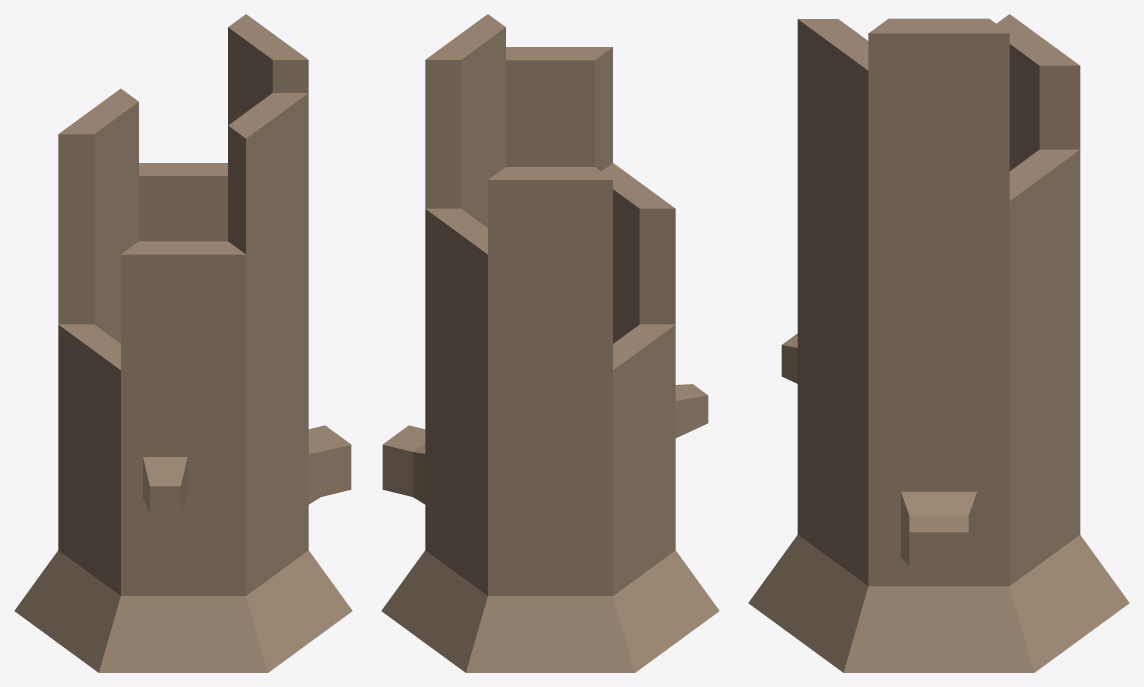
Rendered from srf_stump_tall.glb.
The picture shows the model from 3 angles, left to right: view 1: azimuth 30°, elevation 25°; view 2: azimuth 150°, elevation 25°; view 3: azimuth 270°, elevation 25°; orthographic projection. The views are drawn at different scales.
Visible parts, largest first — view 1: stump_oldTall; view 2: stump_oldTall; view 3: stump_oldTall.
Part boxes in pixels (x1,y1,x2,y2): stump_oldTall: [14, 14, 352, 672]; stump_oldTall: [381, 14, 719, 672]; stump_oldTall: [748, 14, 1129, 672].
Bounding box in the file's own units: 0.3565 × 0.6665 × 0.371.
